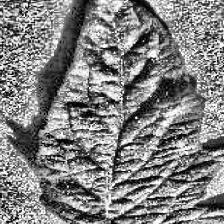spider mites: (36, 0, 224, 224)
